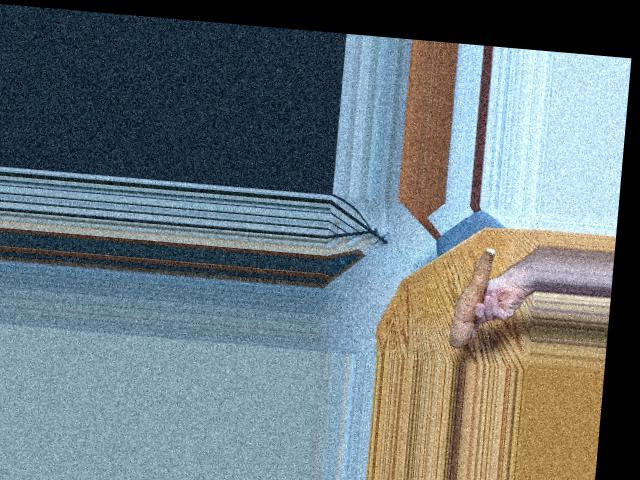sweet_potato: (445, 243, 500, 349)
